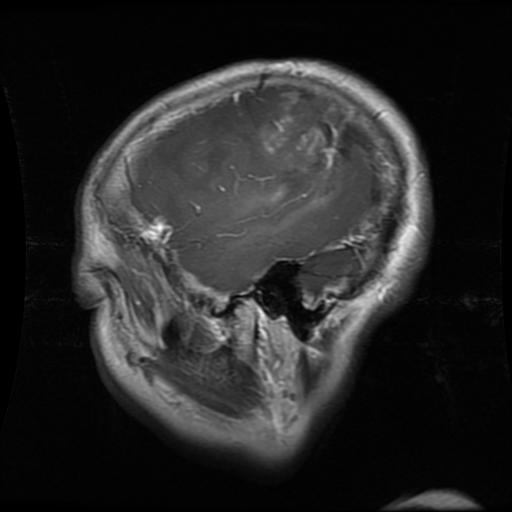Gliomia_tumour: (257, 88, 343, 171)
